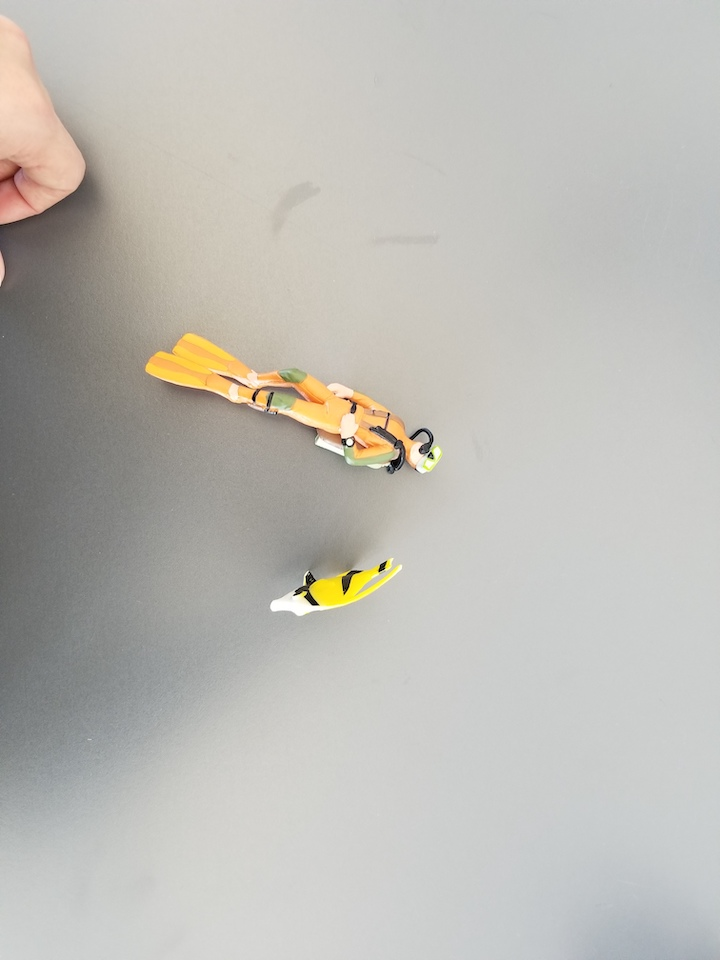danger: (266, 556, 405, 619)
diver: (144, 333, 444, 484)
